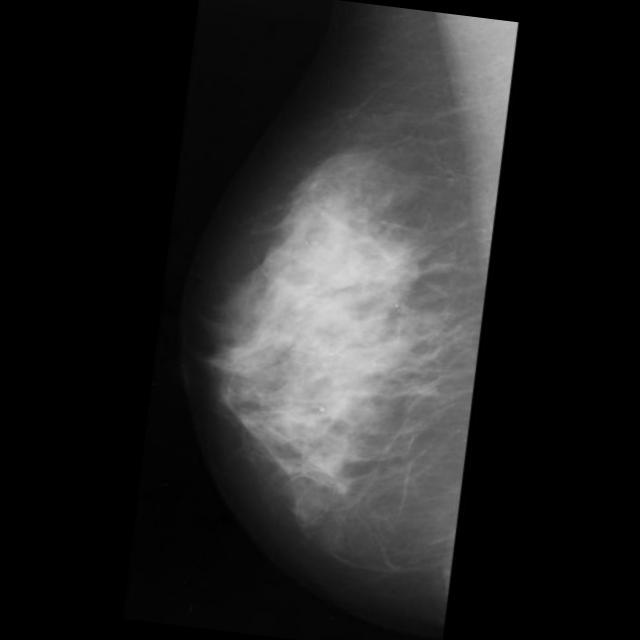SPIC: (351, 220, 436, 306)
